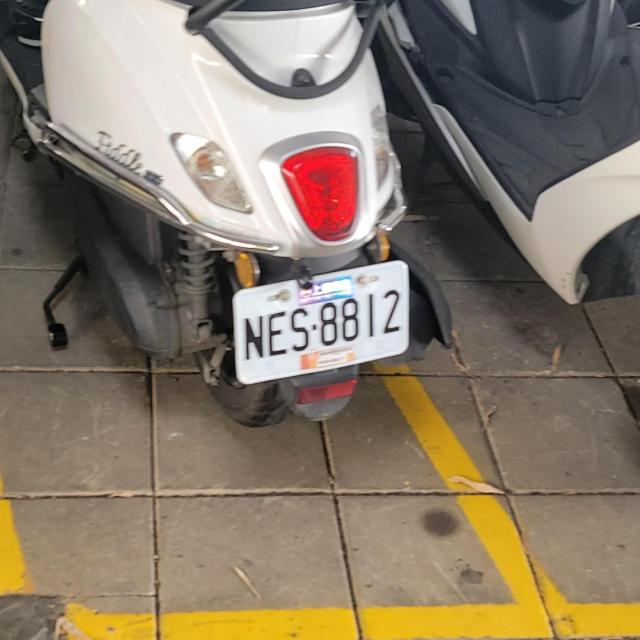W: (222, 253, 419, 391)
